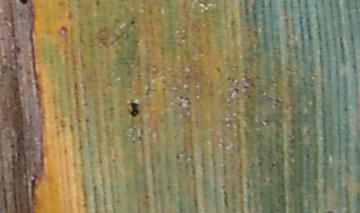tarspot: (129, 101, 139, 117), (228, 18, 237, 28), (16, 1, 29, 7), (342, 104, 349, 115), (174, 152, 181, 161), (107, 106, 116, 113), (214, 65, 220, 75), (231, 87, 240, 93), (178, 93, 184, 102), (323, 208, 333, 213), (274, 96, 281, 103), (83, 116, 90, 123), (128, 18, 134, 25), (257, 160, 263, 167), (95, 1, 100, 7), (9, 143, 14, 149)
